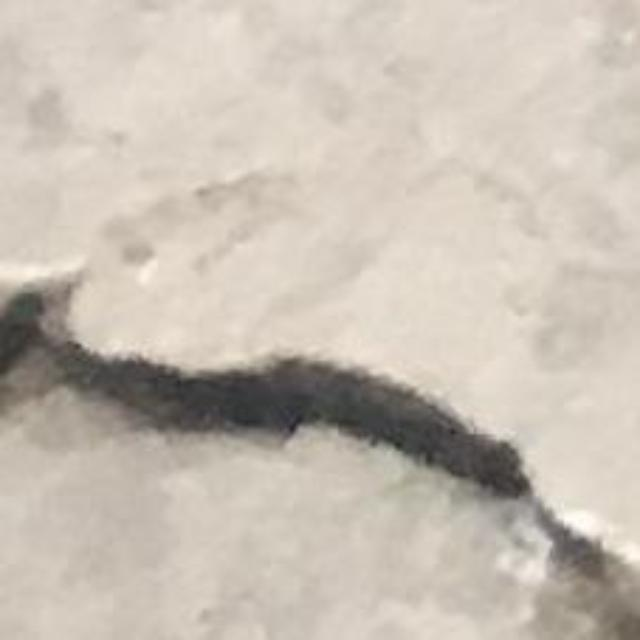crack: (0, 266, 639, 639)
